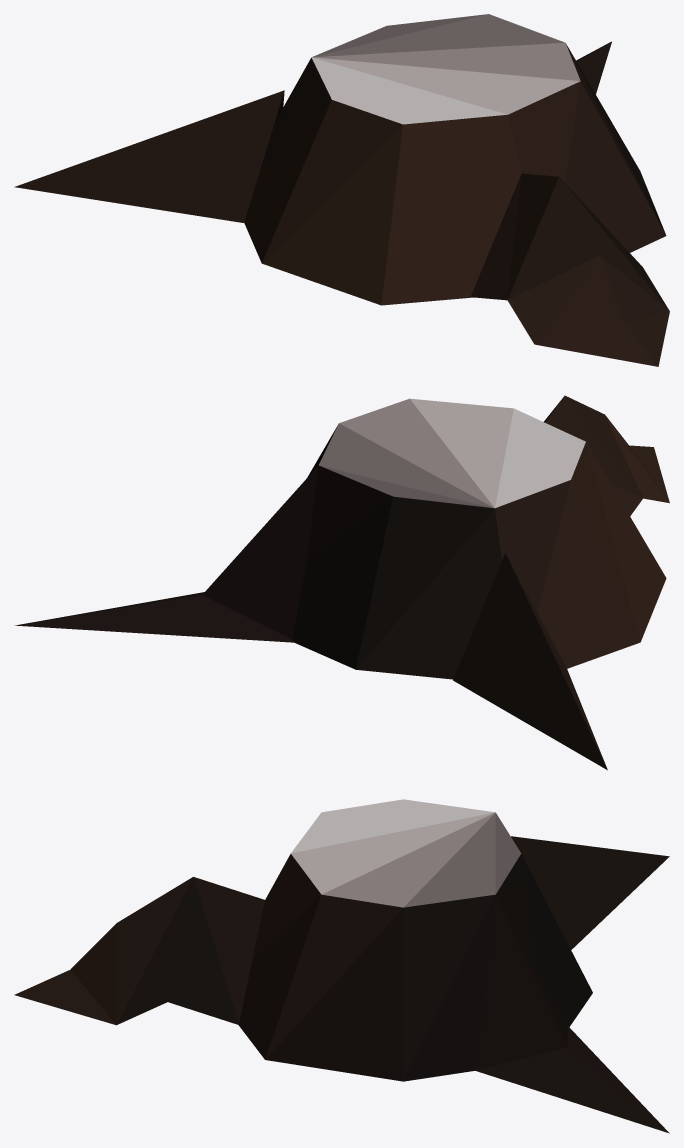
The model's file is Object_Tree_stump_2022-04-29_01-47-36.obj.
3 views of the same model, one above another, from view 1: azimuth 30°, elevation 25°; view 2: azimuth 150°, elevation 25°; view 3: azimuth 270°, elevation 25° (orthographic). The views are drawn at different scales.
Parts seen in each view (by area): view 1: Object_Tree_stump_2022-04-29_01-47-36.obj; view 2: Object_Tree_stump_2022-04-29_01-47-36.obj; view 3: Object_Tree_stump_2022-04-29_01-47-36.obj.
Boxes of the visible parts, left/top/right/bottom form: Object_Tree_stump_2022-04-29_01-47-36.obj: left=14, top=14, right=669, bottom=366; Object_Tree_stump_2022-04-29_01-47-36.obj: left=15, top=395, right=669, bottom=770; Object_Tree_stump_2022-04-29_01-47-36.obj: left=14, top=799, right=669, bottom=1133.
Bounding box in the file's own units: 128 × 30 × 128.
